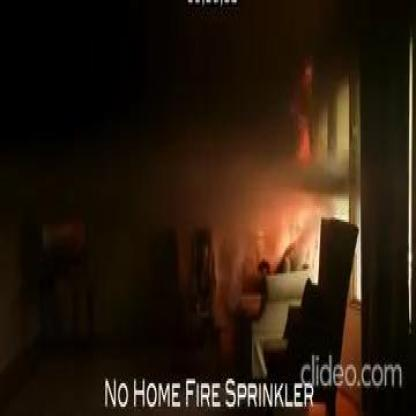fire: (278, 203, 312, 250), (299, 121, 311, 166), (305, 66, 313, 84)
